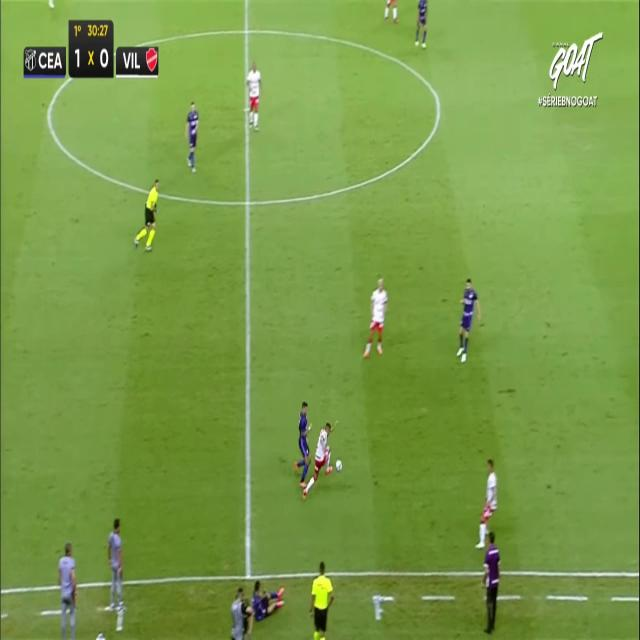ball: (336, 459, 344, 475)
player: (302, 418, 338, 501), (456, 276, 482, 362), (474, 458, 498, 548), (362, 276, 388, 358), (133, 178, 159, 252), (293, 400, 312, 487), (245, 61, 261, 130), (184, 100, 198, 172), (414, 0, 428, 48), (384, 0, 398, 23)
referee: (308, 555, 333, 640)
